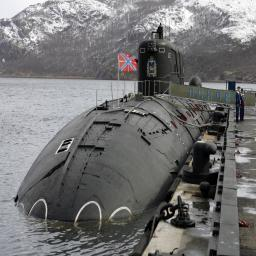submarine: (11, 17, 219, 228)
